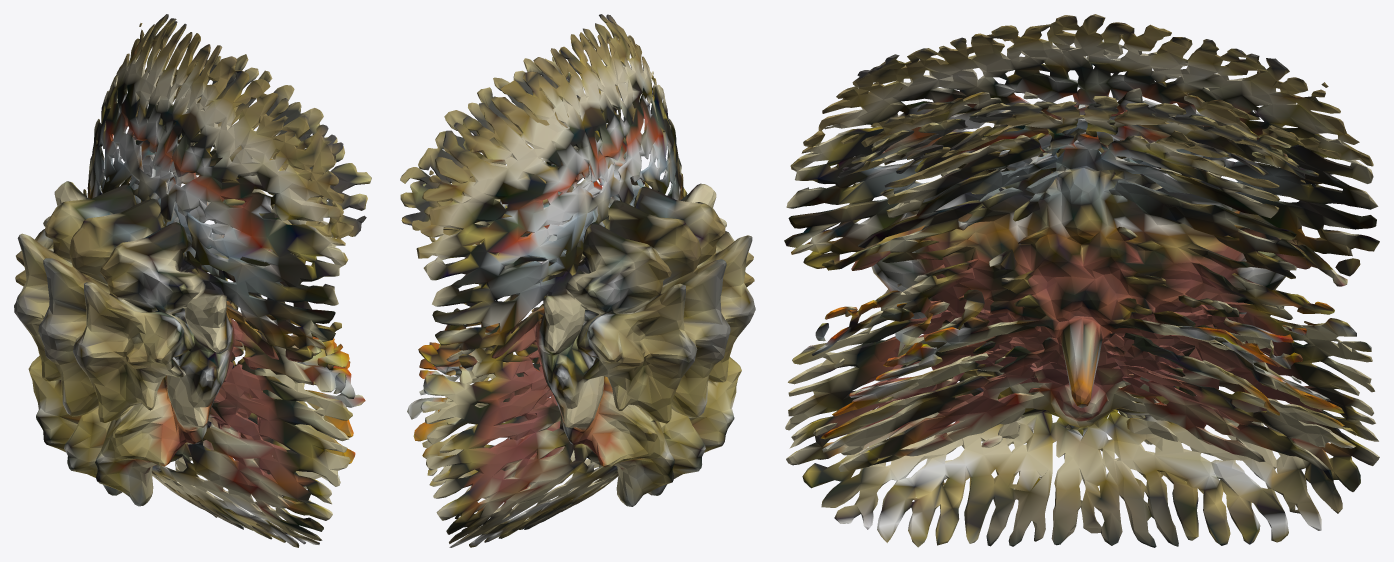
The model's file is dokkaebiKing.glb.
3 renders of one model, left to right at view 1: azimuth 30°, elevation 25°; view 2: azimuth 150°, elevation 25°; view 3: azimuth 270°, elevation 25°, orthographic. The views are drawn at different scales.
Parts seen in each view (by area): view 1: world; view 2: world; view 3: world.
Boxes of the visible parts, left/top/right/bottom form: world: left=14, top=14, right=371, bottom=547; world: left=400, top=14, right=755, bottom=547; world: left=784, top=14, right=1379, bottom=547.
Size of the model in its own units: 0.5812 by 1 by 0.9881.
